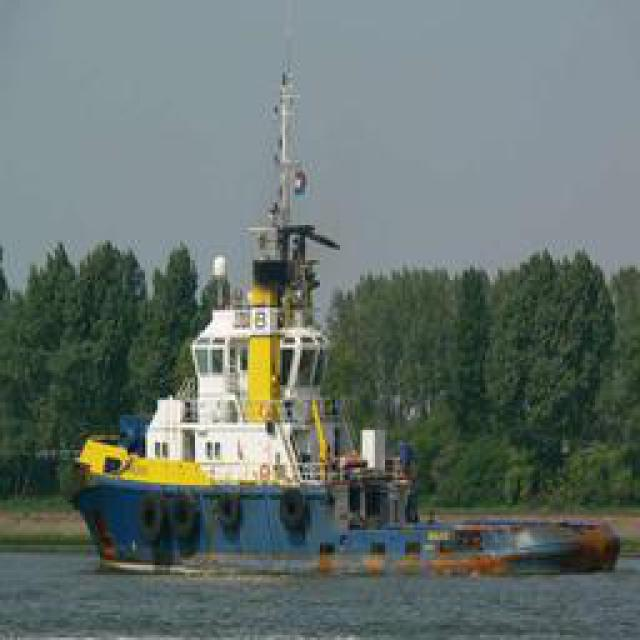Ship: (75, 38, 440, 576)
